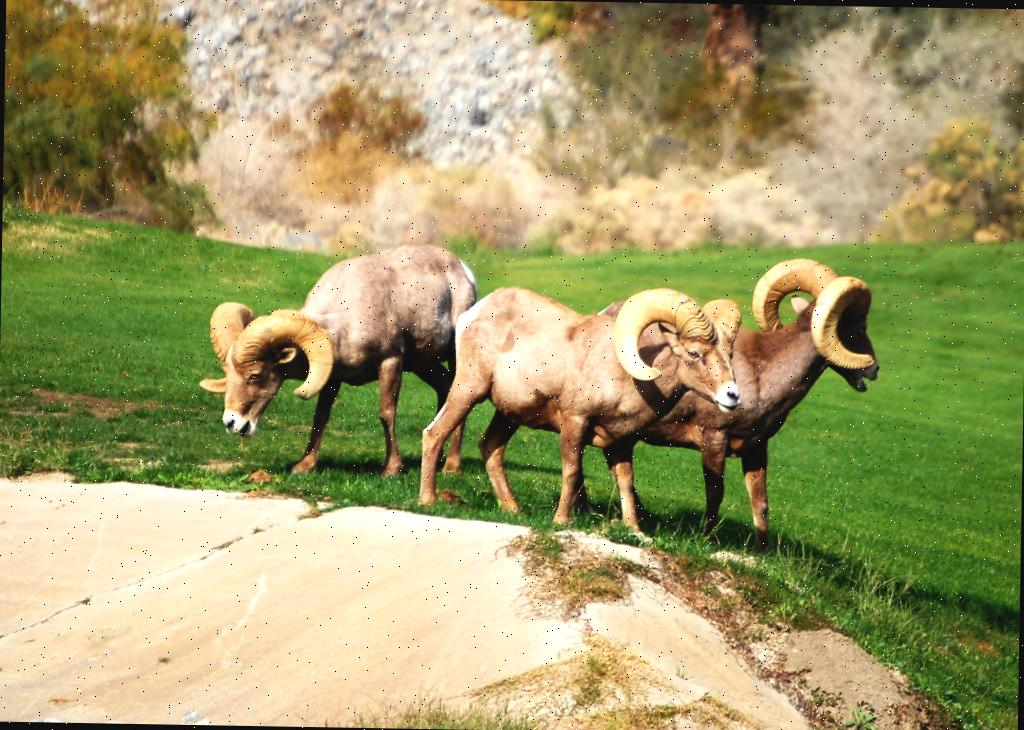Sheep: (602, 255, 880, 550), (418, 284, 740, 536), (194, 240, 480, 476)
